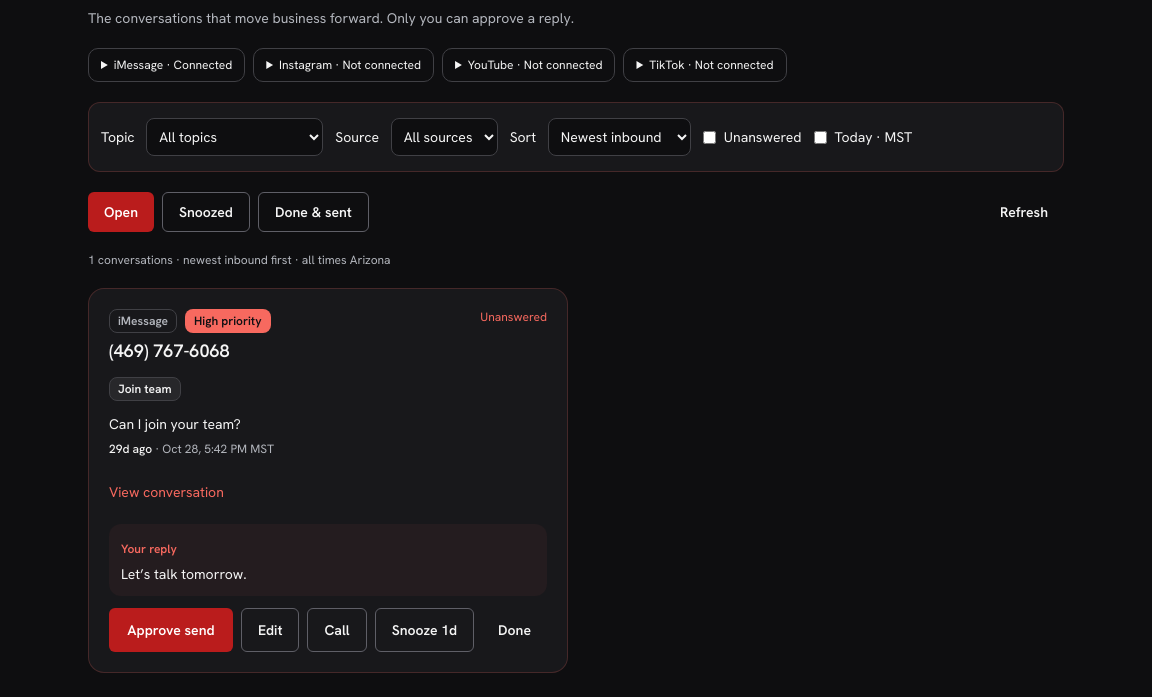
Test: Money Inbox › shows failed saves and restores the approval action
(page scrolled)
What coordinates should you click on to do the following:
click the button "Approve send"
I would click on:
 (171, 630)
Its box is [109,608,233,652].
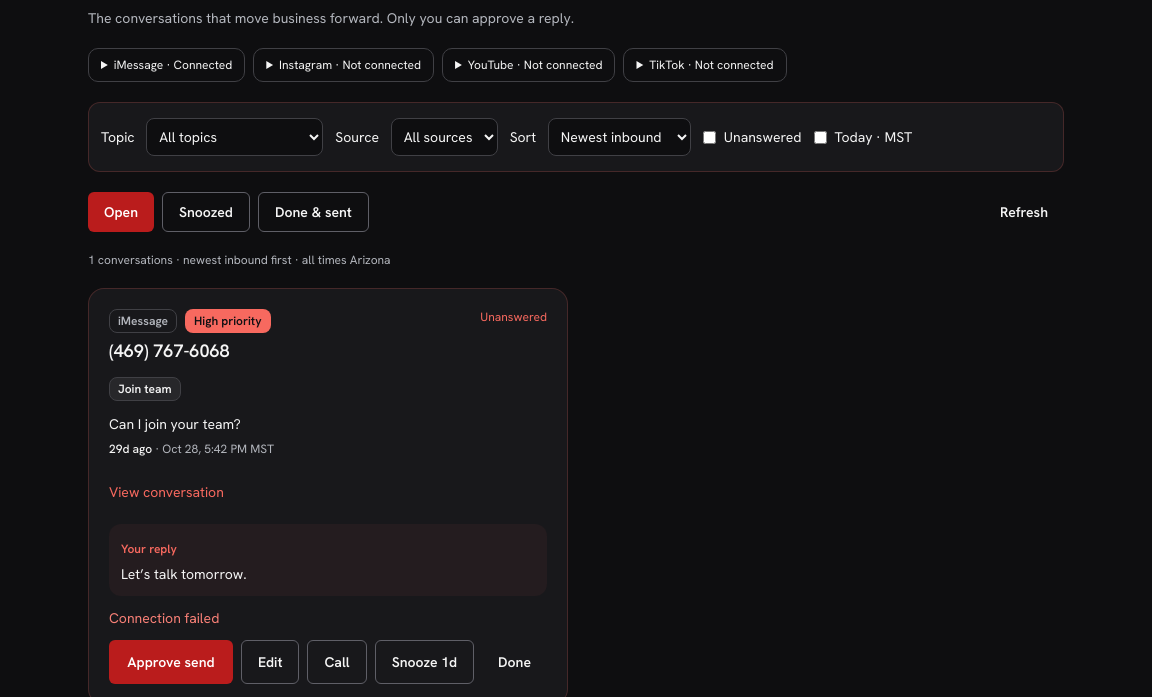
Expected: the button "Approve send" is enabled, [109,640,233,684]
Expected: the message reads "Connection failed", [109,609,219,627]
